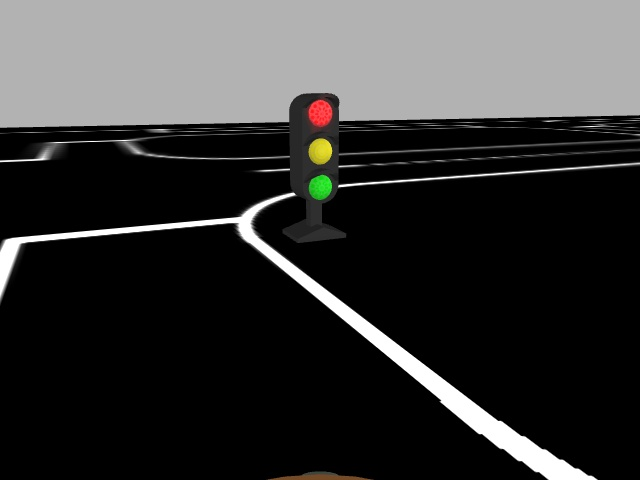red_light: (287, 92, 342, 201)
